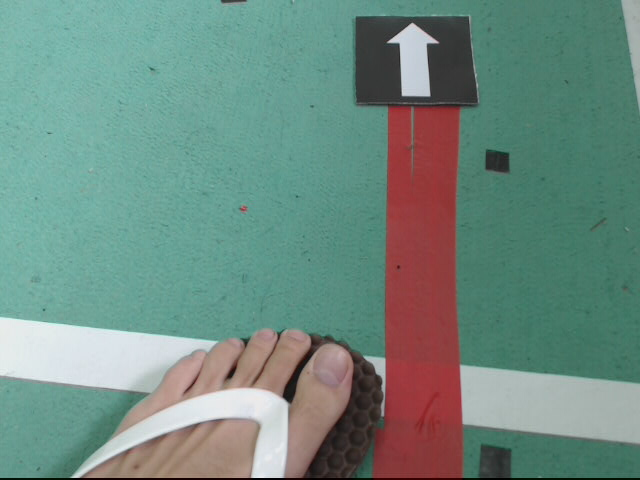straight: (354, 15, 480, 107)
